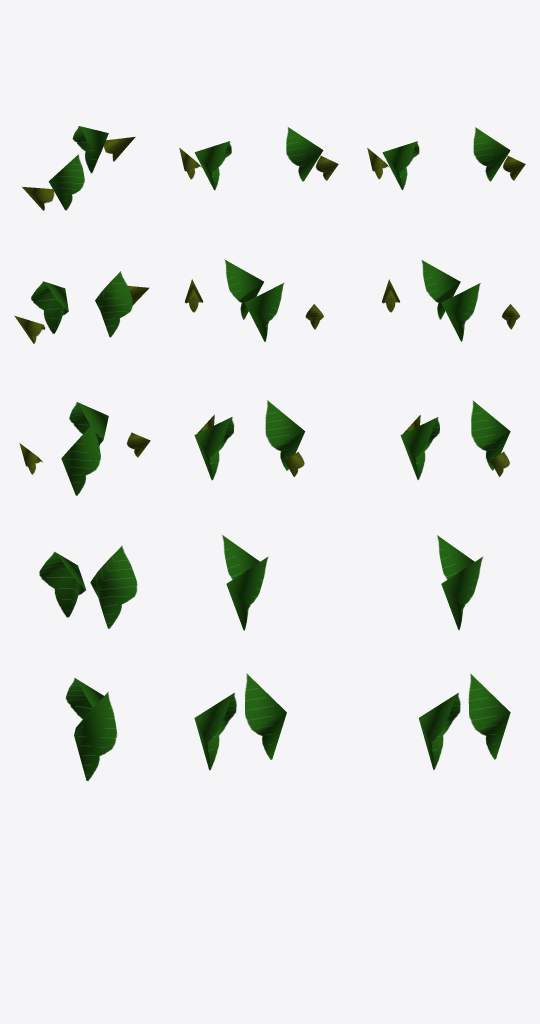
The model's file is Herb_Jewelweed.glb.
3 views of the same model, side by side, from view 1: azimuth 30°, elevation 25°; view 2: azimuth 150°, elevation 25°; view 3: azimuth 330°, elevation 25° (orthographic).
Parts seen in each view (by area): view 1: Herb_Jewelweed; view 2: Herb_Jewelweed; view 3: Herb_Jewelweed.
Part boxes in pixels (bbox=[...]): Herb_Jewelweed: bbox=[14, 126, 150, 780]; Herb_Jewelweed: bbox=[179, 127, 338, 770]; Herb_Jewelweed: bbox=[367, 127, 525, 769].
Size of the model in its own units: 0.1453 by 1 by 0.1092.
1 material, 1 textured.
